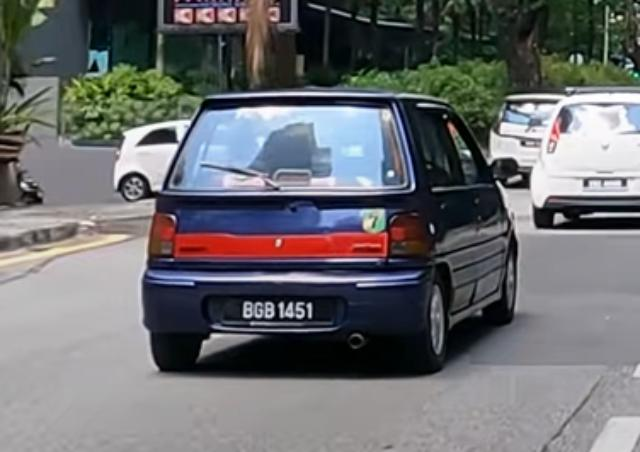License_Plate: (224, 300, 335, 329)
car: (141, 85, 520, 376)
